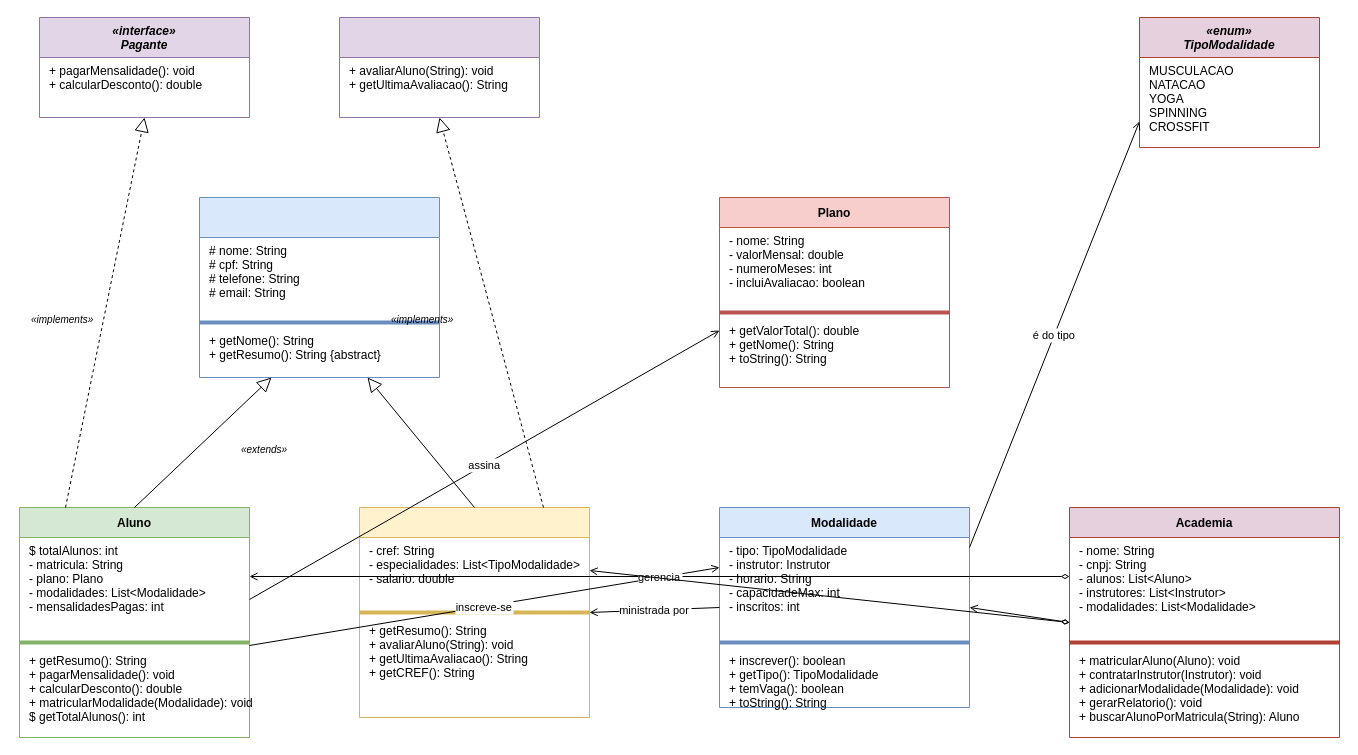
Some shapes in this 1358 by 755 pixel diagram are drawn without their labels. The shapes that lost their labels are listed below. From the top down, each one's box as (x1, y1, x2, y2) in pixels, then its label:
(338, 16, 540, 118): «interface» Avaliavel
(198, 196, 440, 378): «abstract» Pessoa
(358, 506, 590, 718): Instrutor
